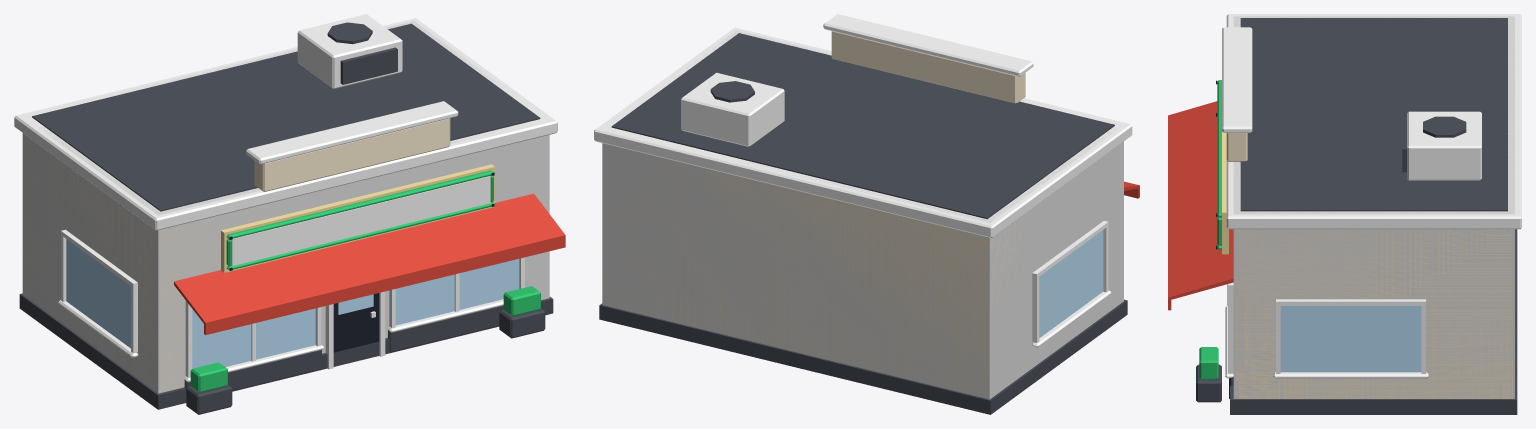
File: idea-exterior.glb
3 views of the same model, side by side, from view 1: azimuth 30°, elevation 25°; view 2: azimuth 150°, elevation 25°; view 3: azimuth 270°, elevation 25° (orthographic). The views are drawn at different scales.
Parts seen in each view (by area): view 1: idea, COL_body, sign_board, sign_frame; view 2: idea, COL_body; view 3: idea, COL_body, sign_frame.
Boxes of the visible parts, x1,y1,x2,y2 form: idea: (14, 14, 565, 414); COL_body: (22, 21, 549, 393); sign_board: (231, 176, 490, 265); sign_frame: (221, 164, 494, 272); idea: (594, 14, 1139, 414); COL_body: (602, 30, 1123, 399); idea: (1168, 14, 1521, 414); COL_body: (1233, 16, 1514, 398); sign_frame: (1216, 80, 1228, 254).
Size of the model in its own units: 10.36 by 5.62 by 7.55.
